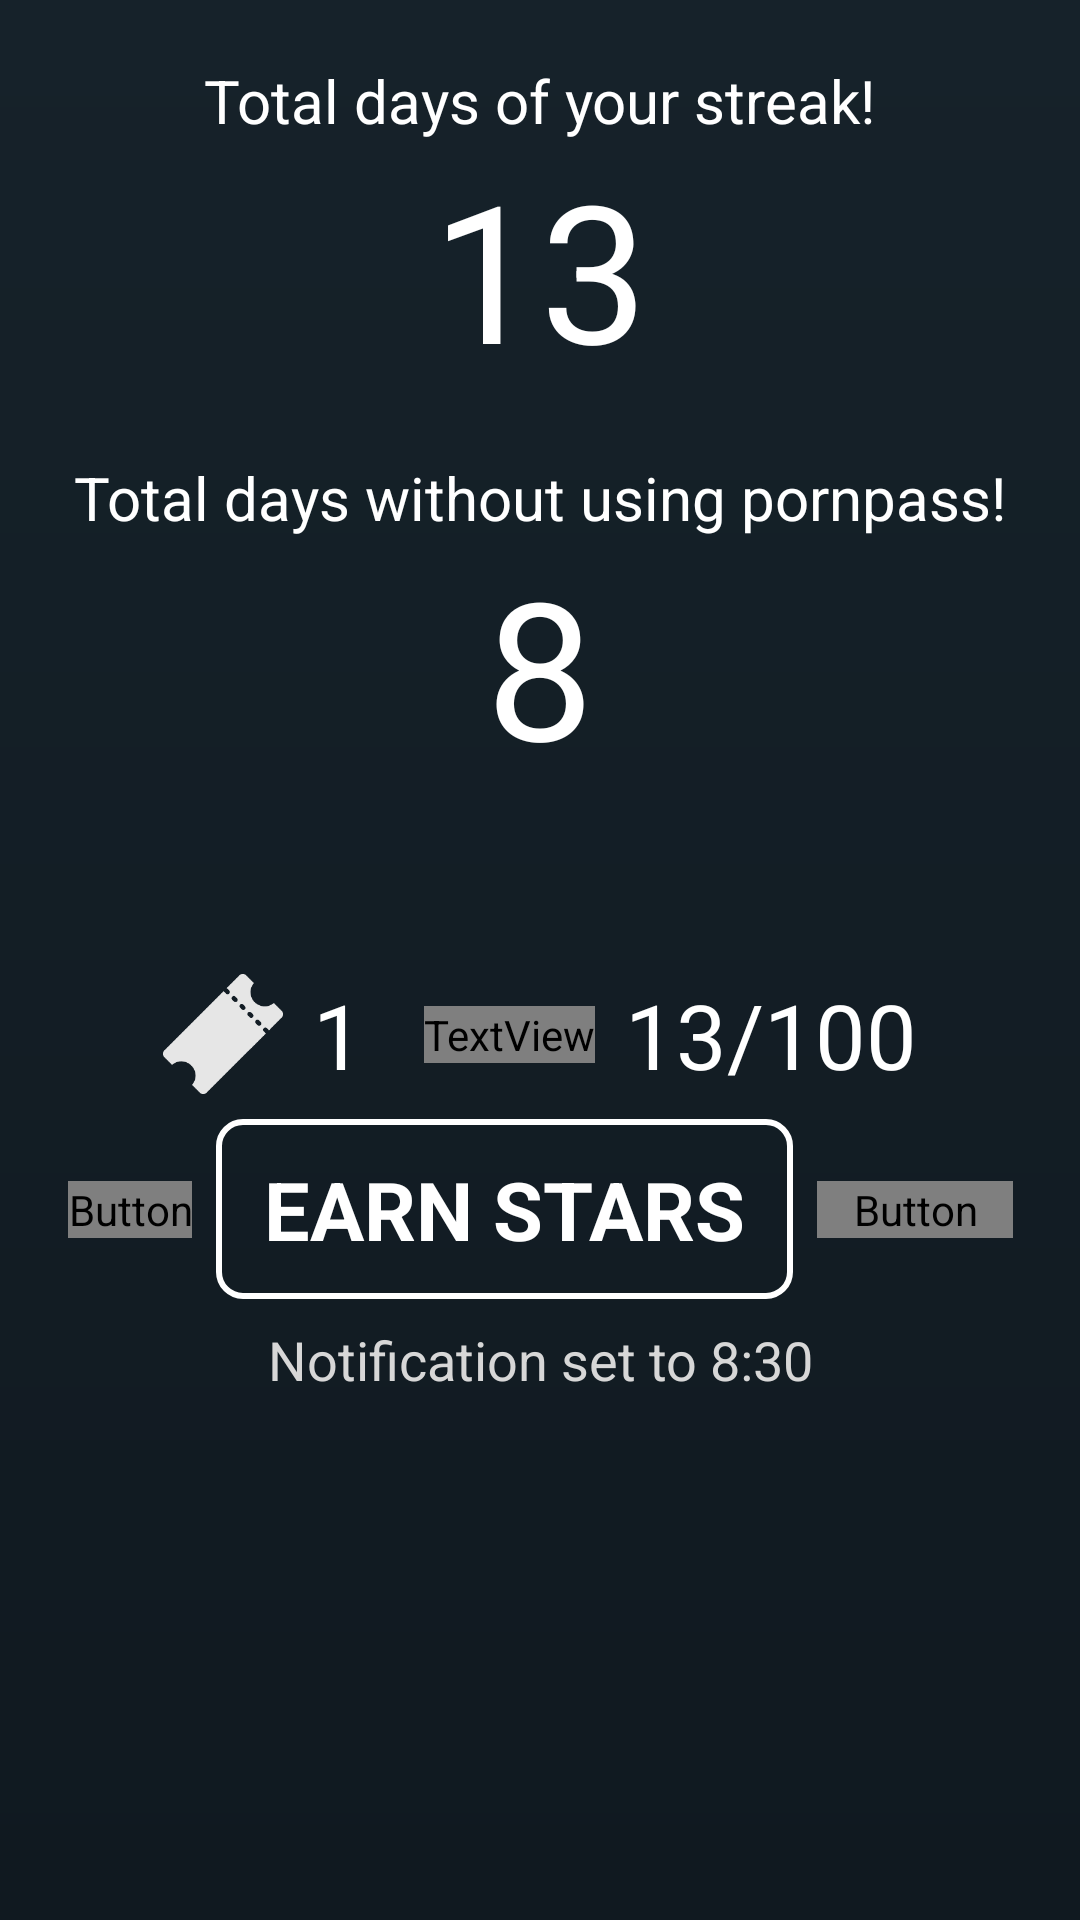

Screen size 1080 x 1920. Icon name, then its box in pixels as region(x1, y1, x2, y2):
ticket: region(163, 974, 283, 1094)
